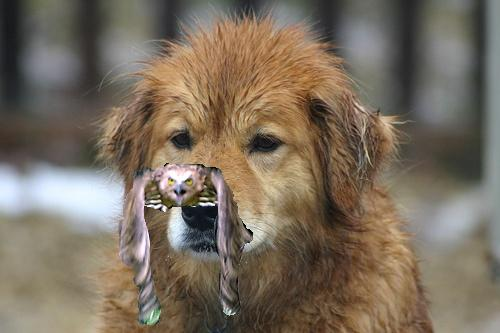tampered: (119, 164, 253, 325)
